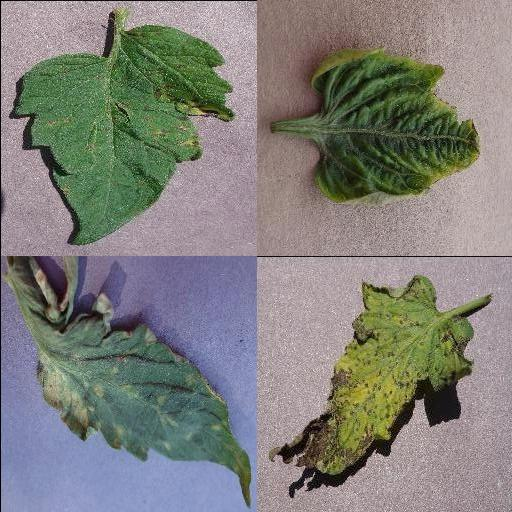Leaf Mold: (34, 293, 252, 509)
Septoria: (14, 26, 232, 246), (267, 272, 473, 473)
Yellow Leaf Curl Virus: (308, 48, 480, 206)
